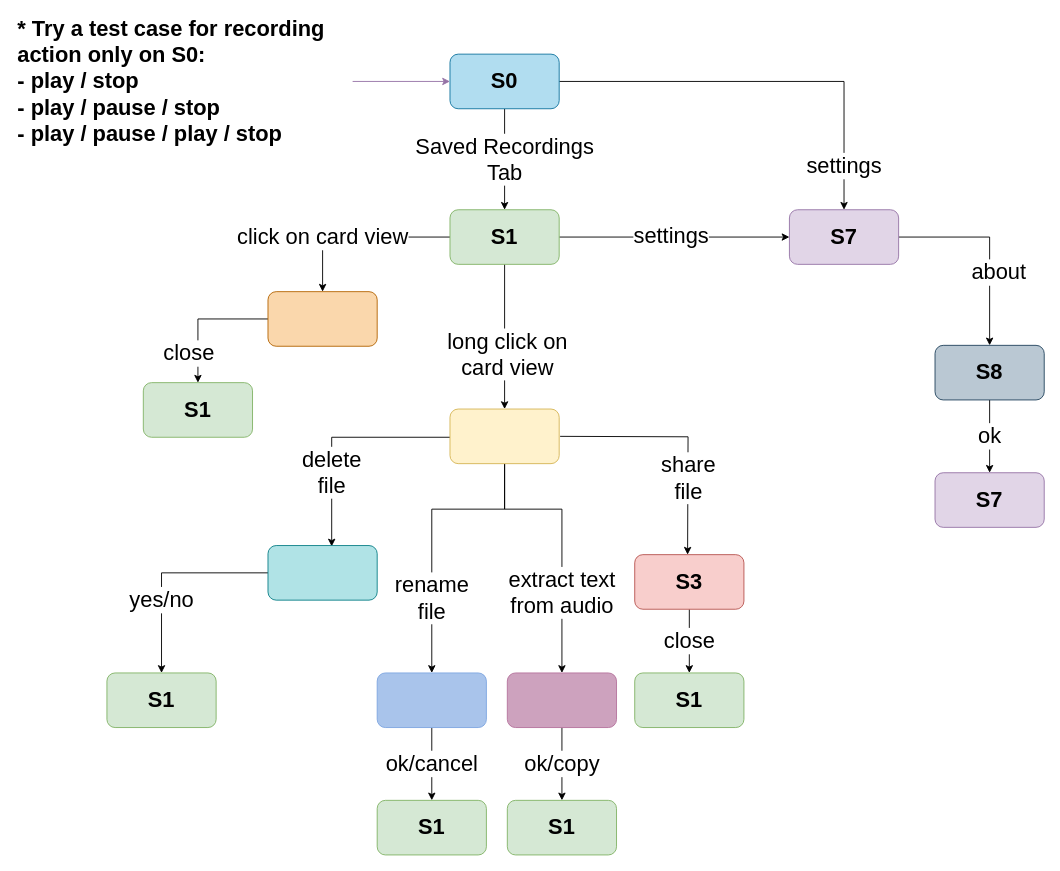
Image size: 1060x871. Some labels were removed from this diagram. The centre of each missing label's shape, as x and y in pixels:
"S2" belongs at point (504, 436).
"S4" belongs at point (322, 572).
"S5" belongs at point (431, 700).
"S6" belongs at point (561, 700).
"S9" belongs at point (322, 318).
